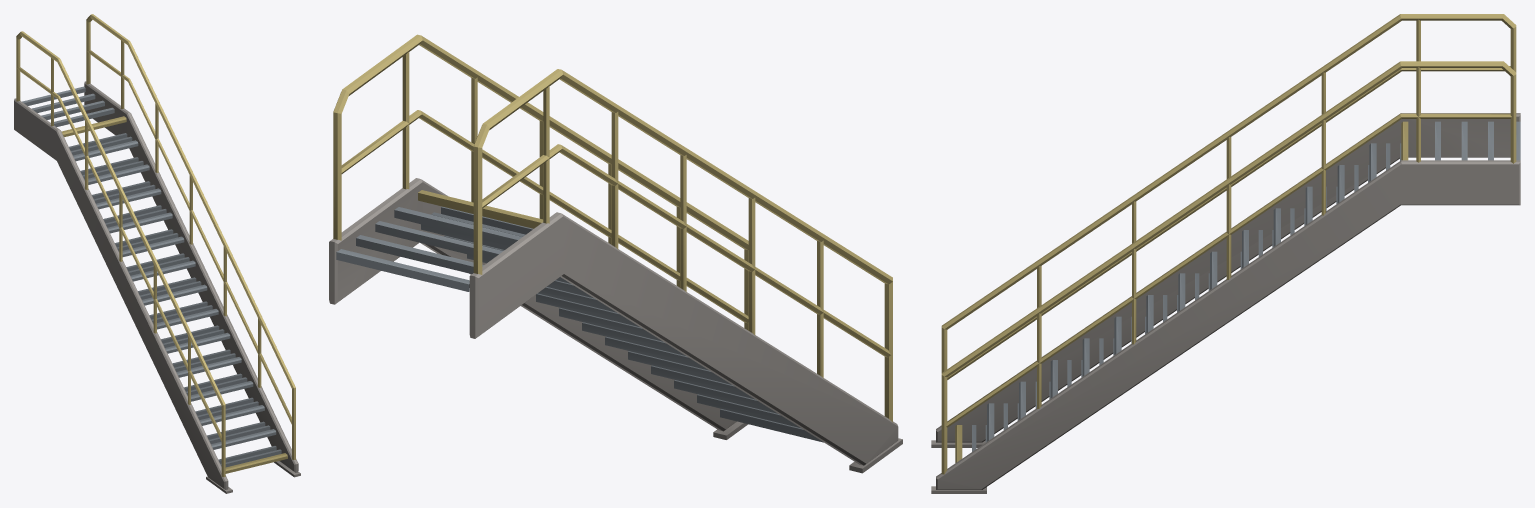
File: stair.glb
3 renders of one model, left to right at view 1: azimuth 30°, elevation 25°; view 2: azimuth 150°, elevation 25°; view 3: azimuth 270°, elevation 25°, orthographic. The views are drawn at different scales.
Visible parts, largest first — view 1: stair; view 2: stair; view 3: stair.
Part boxes in pixels (x1,y1,x2,y2): stair: (14, 14, 300, 493); stair: (329, 34, 902, 473); stair: (931, 14, 1520, 493).
Size of the model in its own units: 1 by 3.97 by 4.93.
